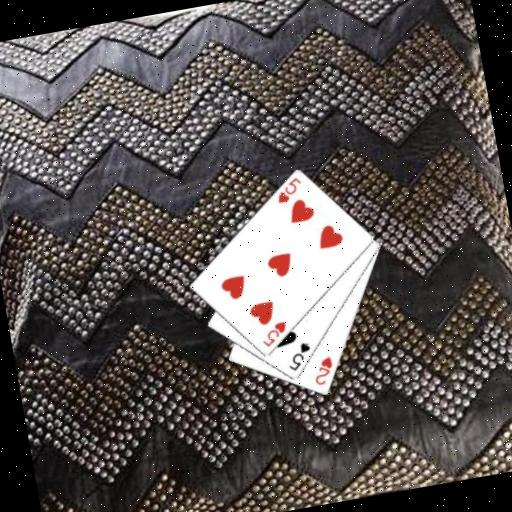2H: (308, 352, 337, 387)
5H: (271, 174, 306, 206), (256, 317, 290, 349)
5S: (282, 338, 315, 373)
